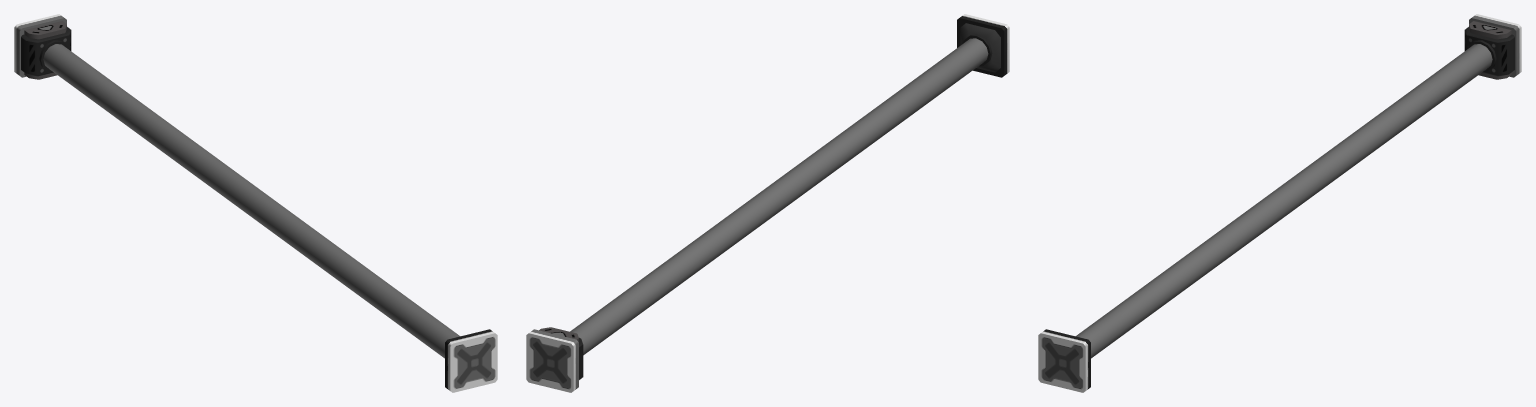
Rendered from obj_interactive_piston_03_on.fbx.
The picture shows the model from 3 angles, left to right: view 1: azimuth 30°, elevation 25°; view 2: azimuth 150°, elevation 25°; view 3: azimuth 330°, elevation 25°; orthographic projection.
Parts seen in each view (by area): view 1: obj_interactive_piston_03_on; view 2: obj_interactive_piston_03_on; view 3: obj_interactive_piston_03_on.
Boxes of the visible parts, x1,y1,x2,y2 form: obj_interactive_piston_03_on: [14, 14, 497, 392]; obj_interactive_piston_03_on: [526, 14, 1009, 392]; obj_interactive_piston_03_on: [1038, 14, 1521, 392].
Size of the model in its own units: 1 by 1 by 16.
